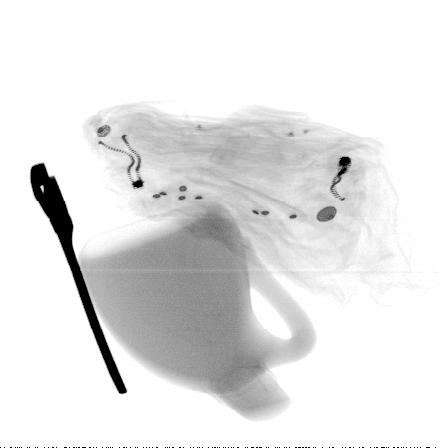Wrench: (29, 159, 129, 397)
